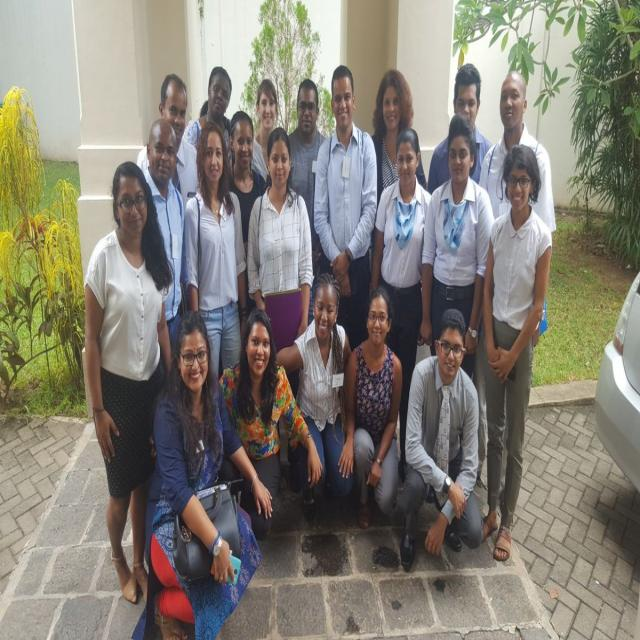body: (138, 309, 274, 640), (83, 157, 177, 610), (480, 143, 553, 562), (216, 308, 324, 541), (397, 305, 485, 574), (369, 127, 433, 467), (273, 271, 356, 524), (418, 112, 496, 381), (313, 64, 379, 356), (247, 124, 315, 403), (182, 119, 248, 382), (337, 284, 404, 530), (134, 118, 188, 396), (477, 70, 557, 235), (287, 79, 334, 328), (368, 66, 428, 250), (135, 70, 204, 220), (226, 109, 268, 327), (428, 61, 493, 194), (177, 96, 219, 286), (181, 65, 234, 176), (248, 76, 281, 184)
